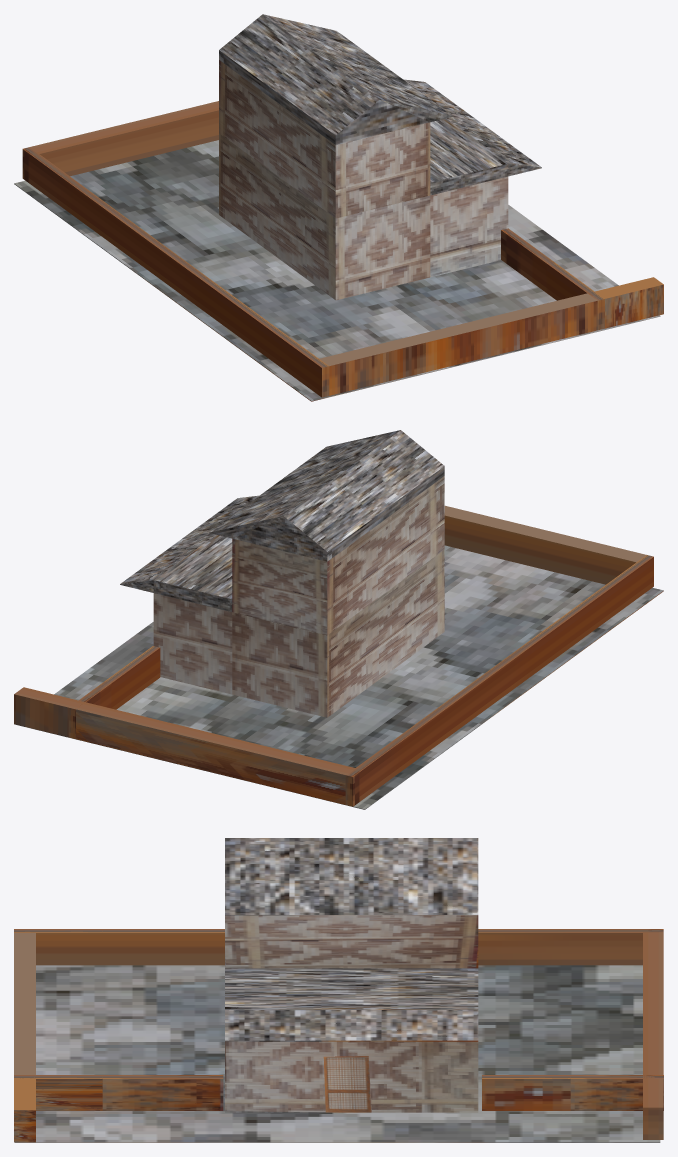
The model's file is house 10.fbx.
3 views of the same model, one above another, from view 1: azimuth 30°, elevation 25°; view 2: azimuth 150°, elevation 25°; view 3: azimuth 270°, elevation 25° (orthographic). The views are drawn at different scales.
Visible parts, largest first — view 1: Cube, Cube.001; view 2: Cube, Cube.001; view 3: Cube, Cube.001.
Part boxes in pixels (x1=…): Cube: x1=14, y1=14, x2=660, y2=401; Cube.001: x1=22, y1=101, x2=663, y2=397; Cube: x1=14, y1=430, x2=663, y2=809; Cube.001: x1=14, y1=505, x2=653, y2=806; Cube: x1=14, y1=838, x2=660, y2=1142; Cube.001: x1=14, y1=929, x2=663, y2=1142.
Size of the model in its own units: 9693 by 5021 by 14276.
